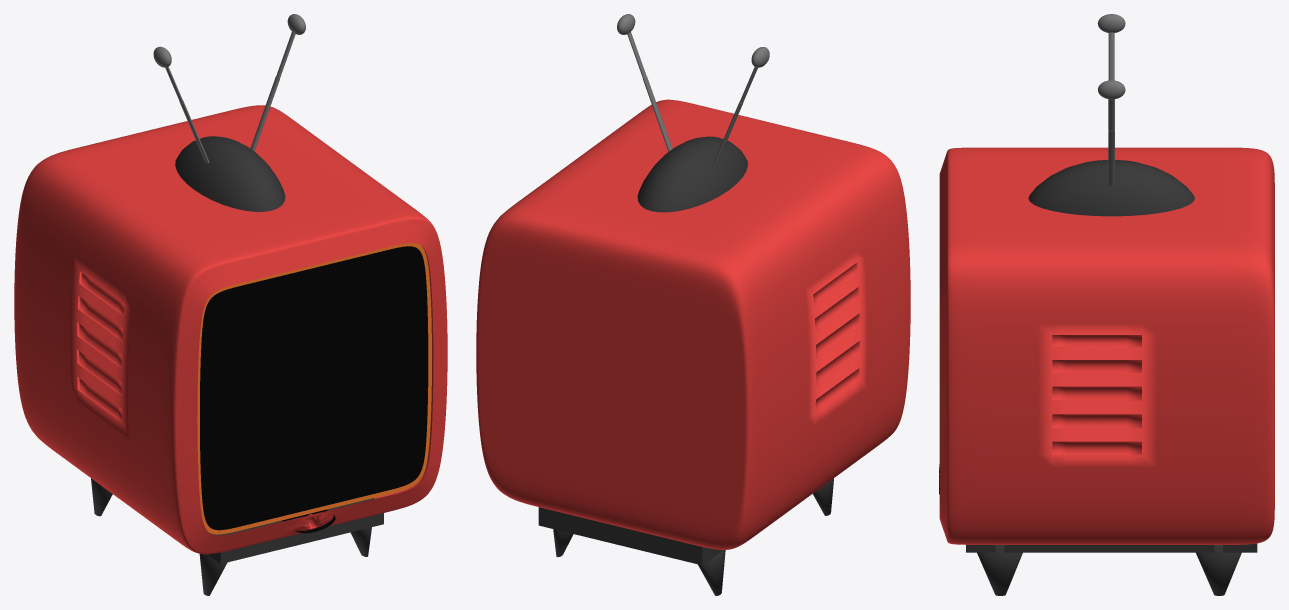
3 views of the same model, side by side, from view 1: azimuth 30°, elevation 25°; view 2: azimuth 150°, elevation 25°; view 3: azimuth 270°, elevation 25° (orthographic).
Parts seen in each view (by area): view 1: Cube.002; view 2: Cube.002; view 3: Cube.002.
Boxes of the visible parts, x1,y1,x2,y2 form: Cube.002: (14, 14, 447, 595); Cube.002: (476, 14, 910, 595); Cube.002: (939, 14, 1274, 595).
Bounding box in the file's own units: 1.98 × 3.43 × 2.06.
